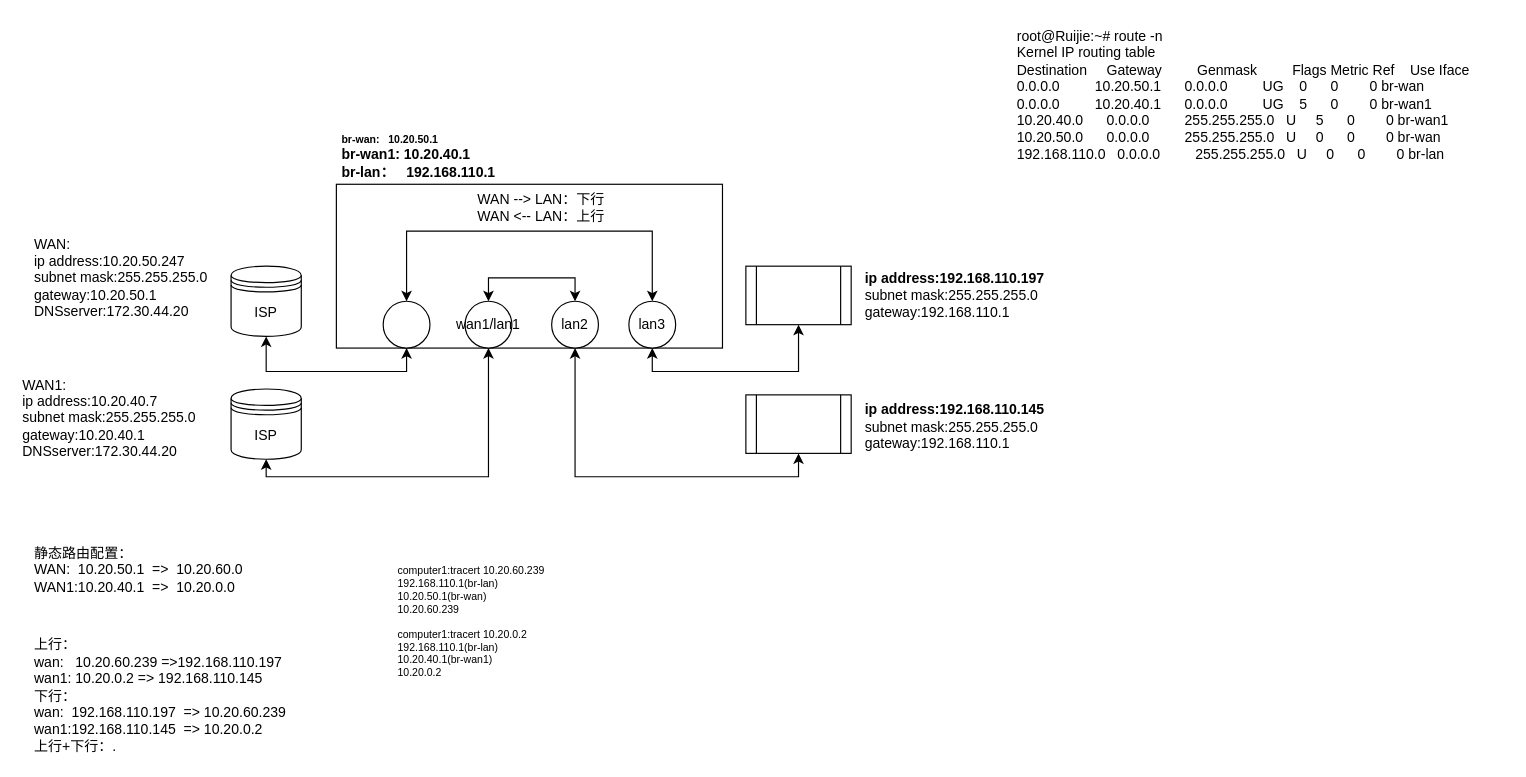
Image size: 1526x777. Some labels were removed from this diagram. The box of each missing label's shape, as (x1, y1, x2, y2) in pixels:
Computer1: (745, 265, 851, 325)
Computer2: (745, 394, 851, 453)
wan: (382, 300, 430, 348)
